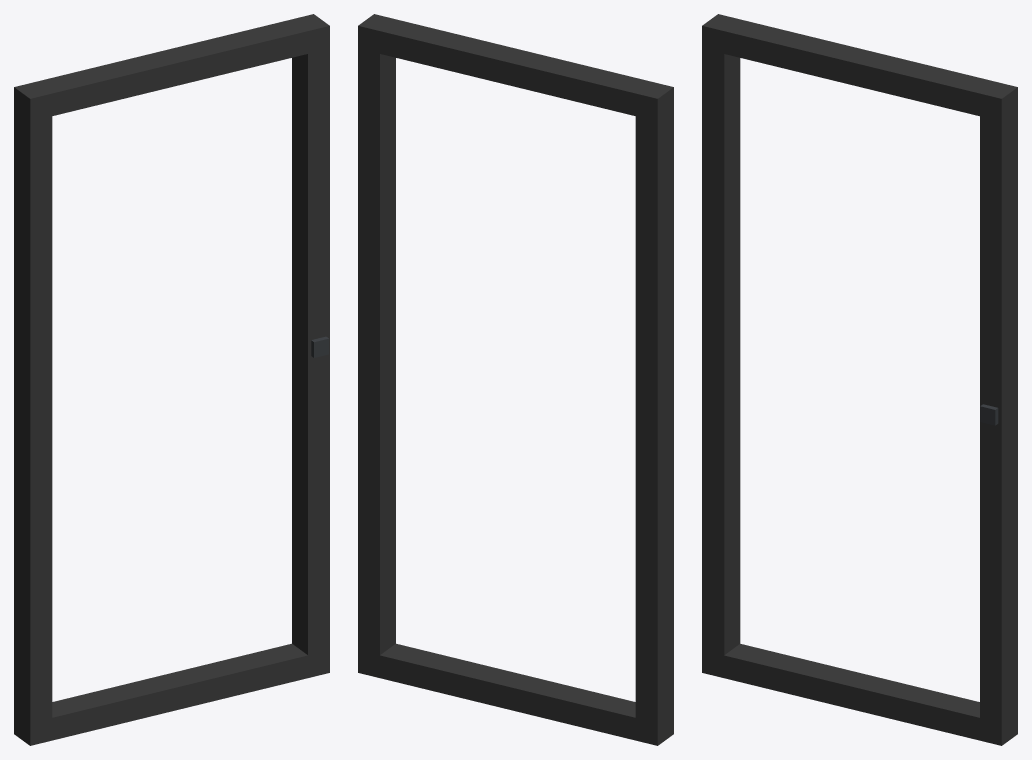
Rendered from Window6_02_3.fbx.
3 renders of one model, left to right at view 1: azimuth 30°, elevation 25°; view 2: azimuth 150°, elevation 25°; view 3: azimuth 330°, elevation 25°, orthographic.
Parts seen in each view (by area): view 1: Window6_02_3; view 2: Window6_02_3; view 3: Window6_02_3.
Boxes of the visible parts, bbox=[...] form: Window6_02_3: bbox=[14, 14, 329, 745]; Window6_02_3: bbox=[358, 14, 673, 745]; Window6_02_3: bbox=[702, 14, 1017, 745].
Bounding box in the file's own units: 55.1 × 114 × 6.04.
